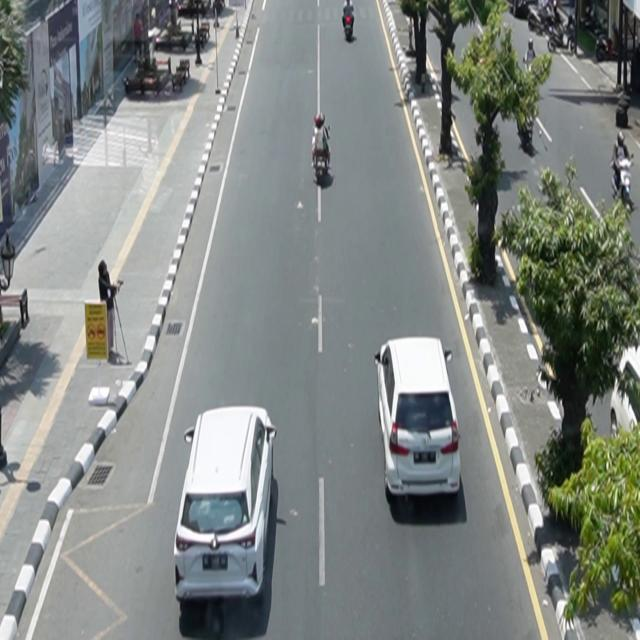car: (174, 405, 278, 608), (375, 337, 462, 504)
